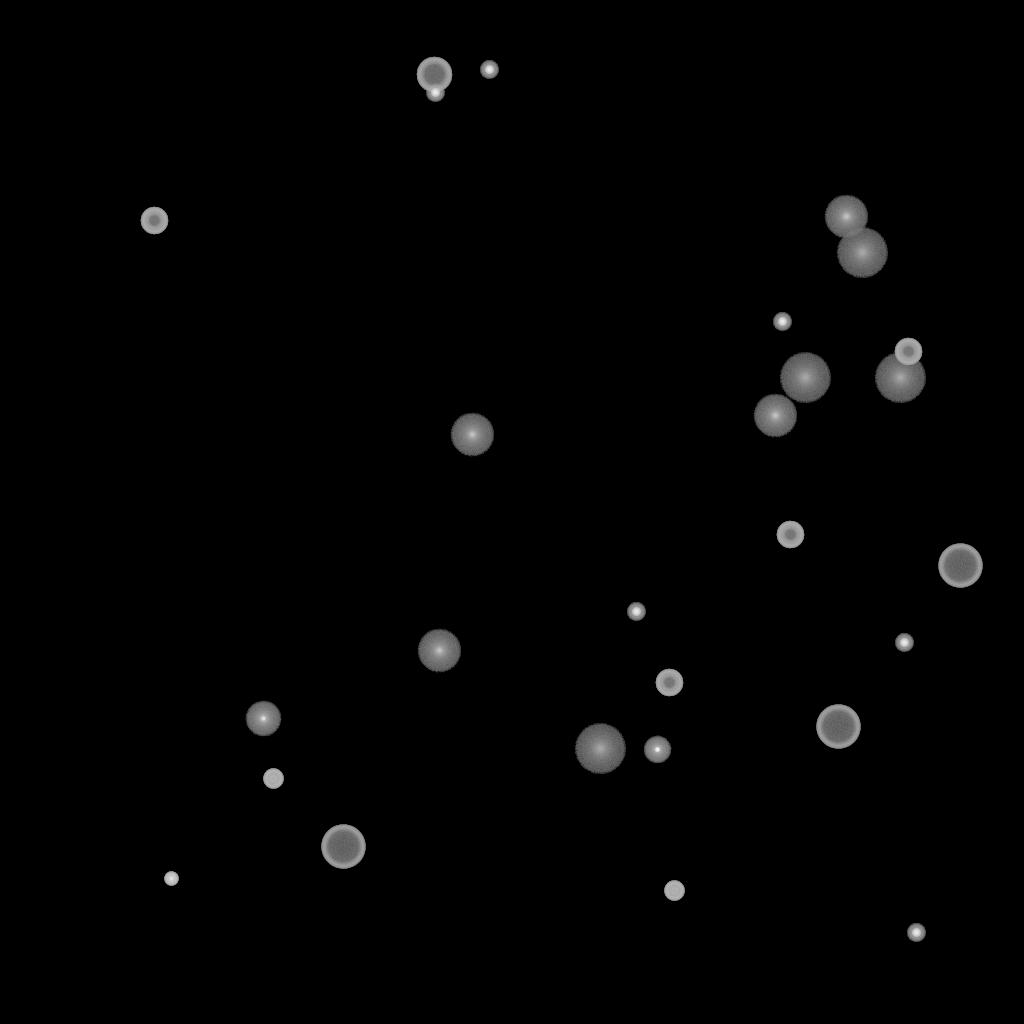depth:-10: (643, 736, 671, 764)
depth:-20: (480, 61, 498, 79), (773, 313, 791, 331), (627, 603, 645, 621), (895, 634, 913, 652), (426, 84, 444, 102), (907, 924, 925, 942)
depth:-30: (164, 872, 178, 886)
depth:-40: (664, 881, 684, 901), (263, 769, 283, 789)
depth:-50: (776, 521, 804, 549), (894, 338, 922, 366), (140, 207, 168, 235), (655, 669, 683, 697)
depth:-60: (416, 57, 452, 93)
depth:-70: (321, 825, 365, 869), (938, 544, 982, 588), (816, 705, 860, 749)
depth:0: (245, 701, 281, 737)
depth:10: (450, 413, 494, 457), (824, 195, 868, 239), (417, 629, 461, 673), (753, 394, 797, 438)
depth:20: (574, 724, 626, 774), (836, 228, 888, 278), (874, 353, 926, 403), (779, 353, 831, 403)
